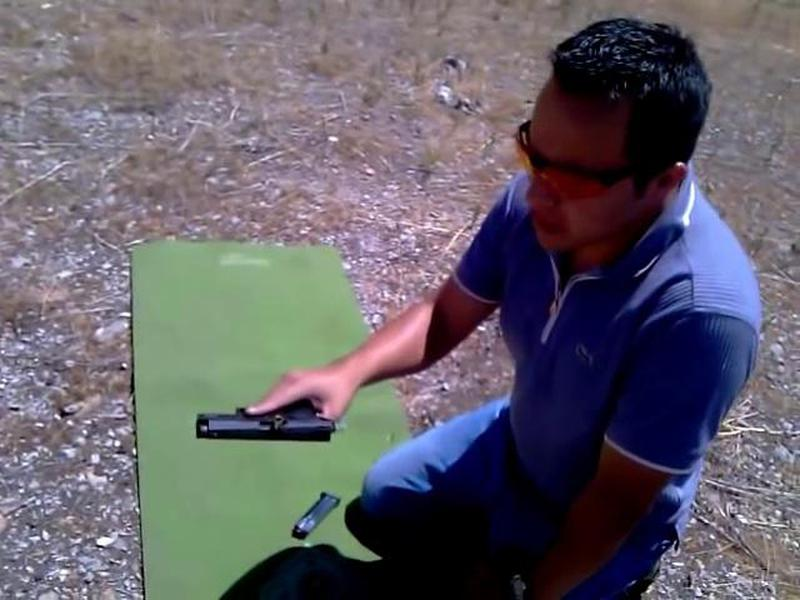Pistola: (157, 374, 347, 483)
